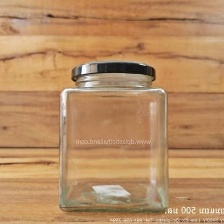glass: (48, 56, 179, 215)
